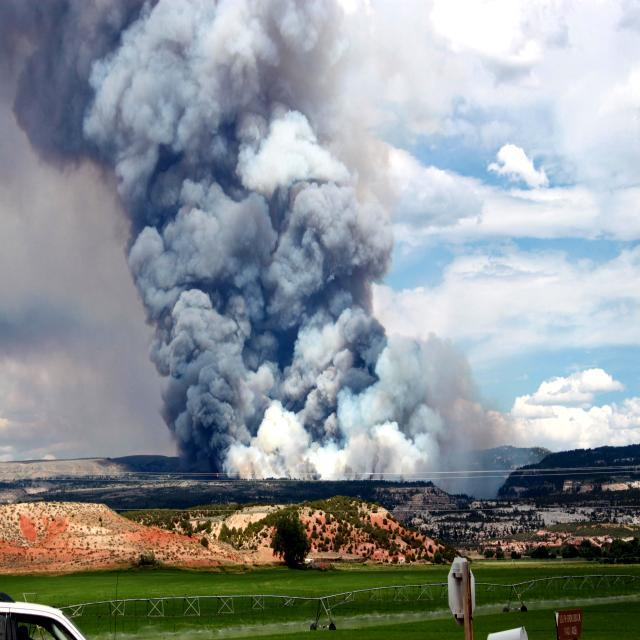Smoke: (7, 0, 493, 496)
